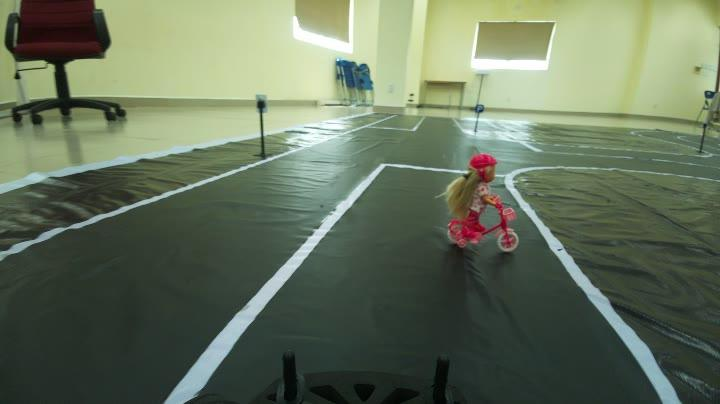pedestrian: (436, 154, 536, 264)
